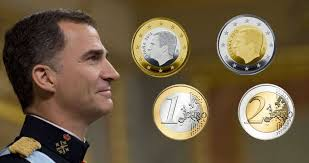eur002: (215, 15, 278, 76), (237, 83, 296, 141)
